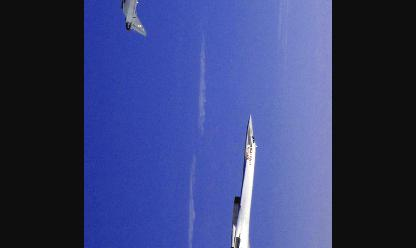E2: (120, 0, 147, 36)
Su34: (232, 113, 273, 247)
